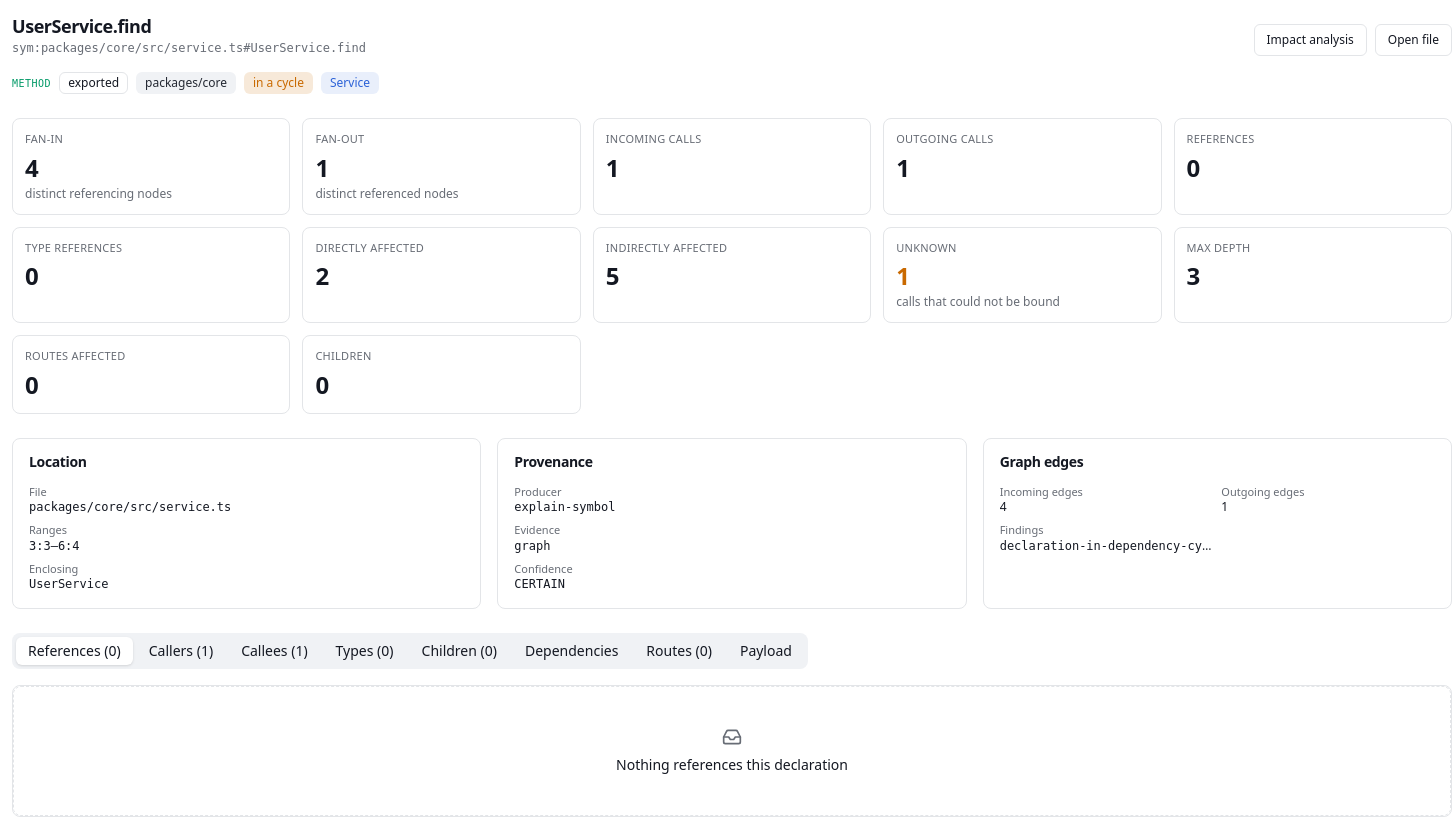
it: Symbol page › keeps an unresolved callee visible with its reason
expect the text "Method" is shown: met, box [12,76,51,90]
Click the tab "Callees (1)" at [274, 652], box [229,638,320,666]
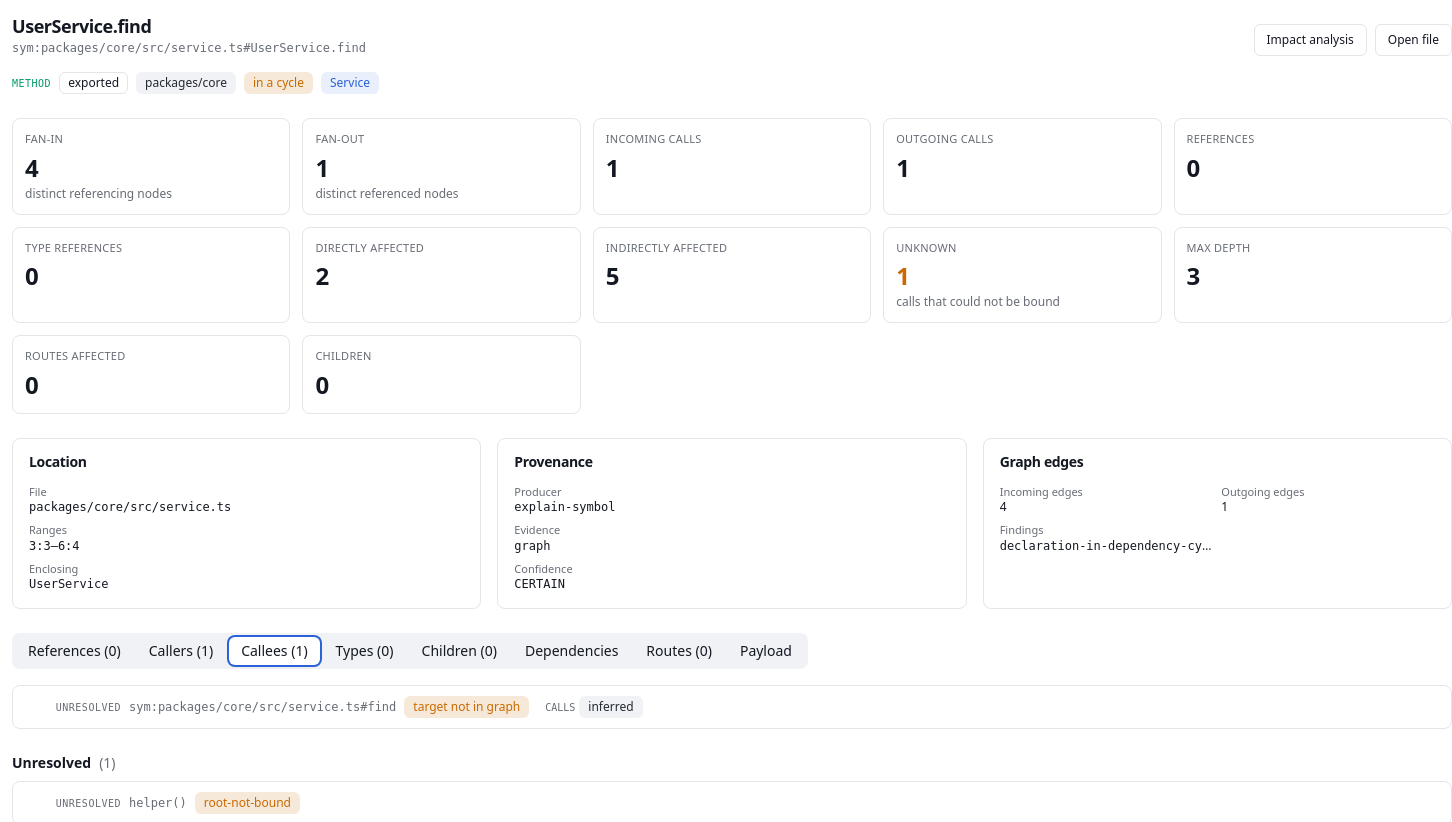
expect the text "target not in graph" is shown: met, box [404,696,529,718]
